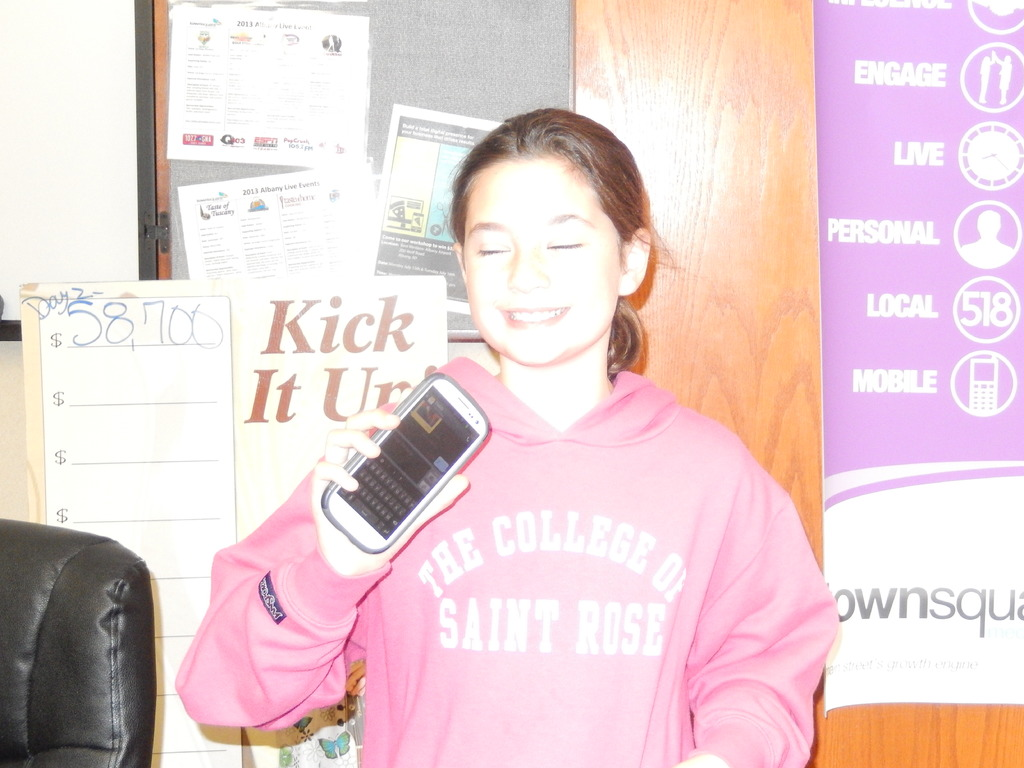Mobile-phone: (318, 370, 491, 554)
